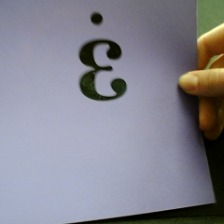violet3: (71, 8, 135, 106)
